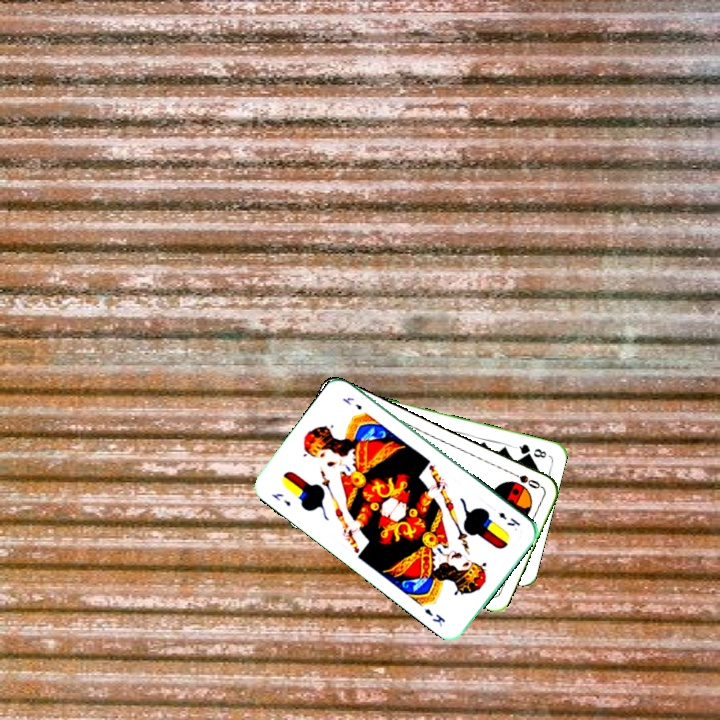EK: (495, 508, 523, 529), (267, 489, 293, 509)
G8: (511, 440, 549, 461)
SO: (506, 467, 544, 491)
